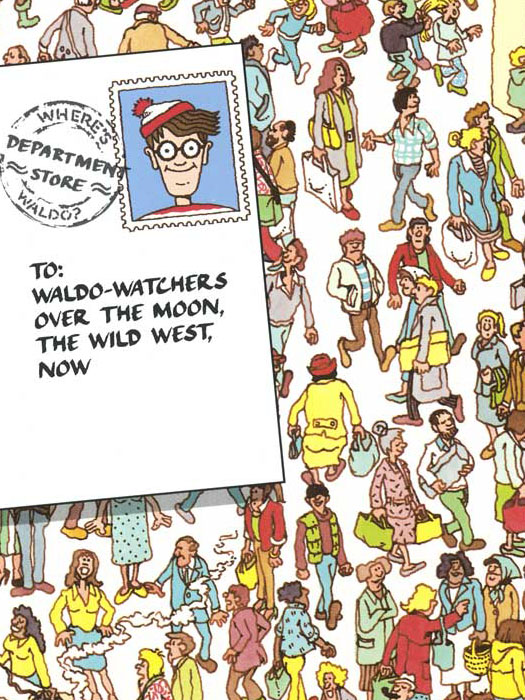waldo: (133, 97, 220, 199)
